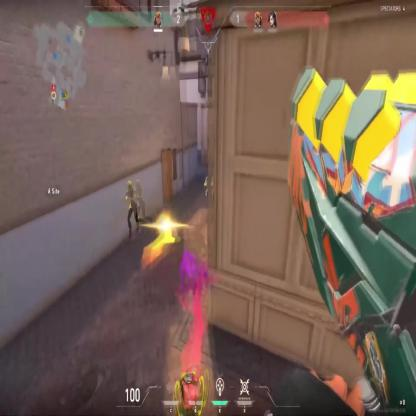enemy: (125, 181, 142, 236), (205, 170, 217, 222)
enemy_head: (127, 181, 133, 190)
